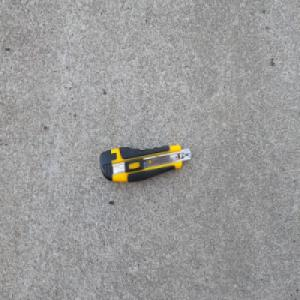Cutter: (98, 142, 192, 184)
